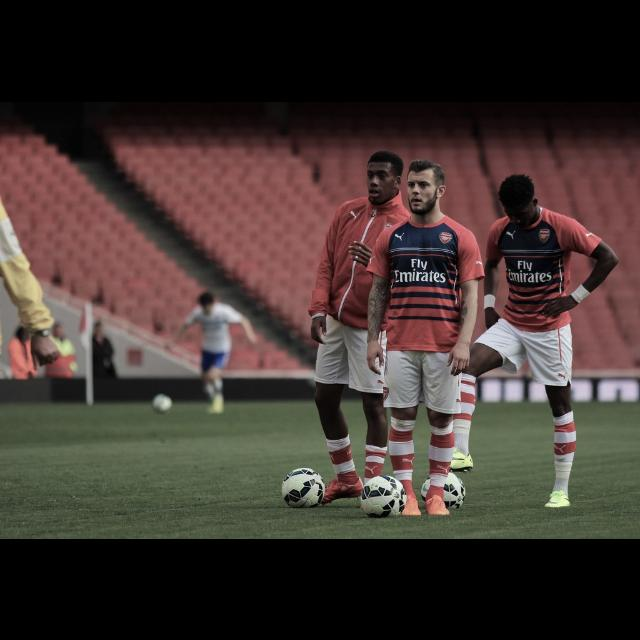Football: (356, 471, 406, 517), (276, 466, 326, 508), (421, 470, 467, 508), (149, 392, 171, 414)
